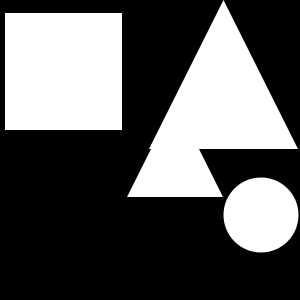circle: (5, 13, 122, 130)
rectangle: (224, 178, 298, 252)
triangle: (149, 0, 298, 149), (127, 101, 223, 197)
